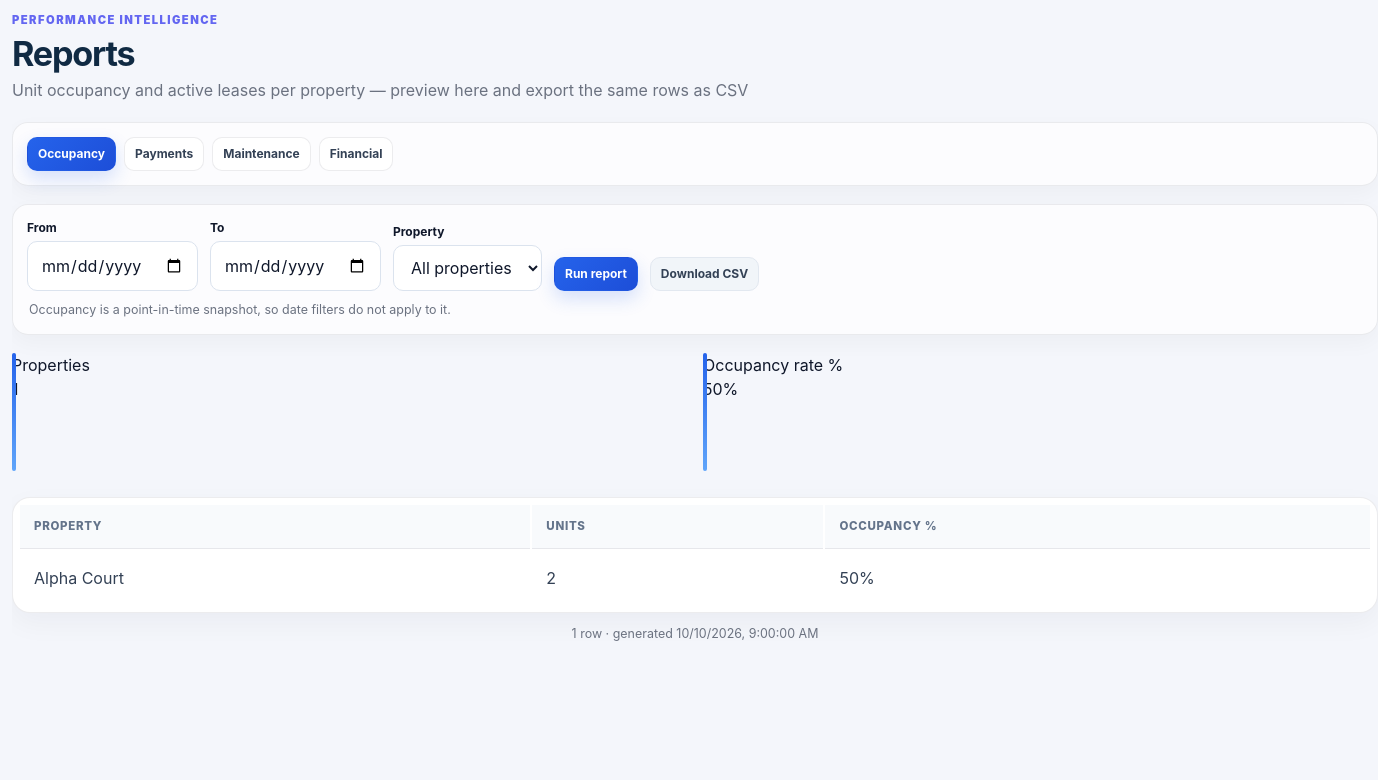
ManagerReports › switches report types via the tabs
Click the tab "Financial" at (356, 154), box [319,137,393,171]
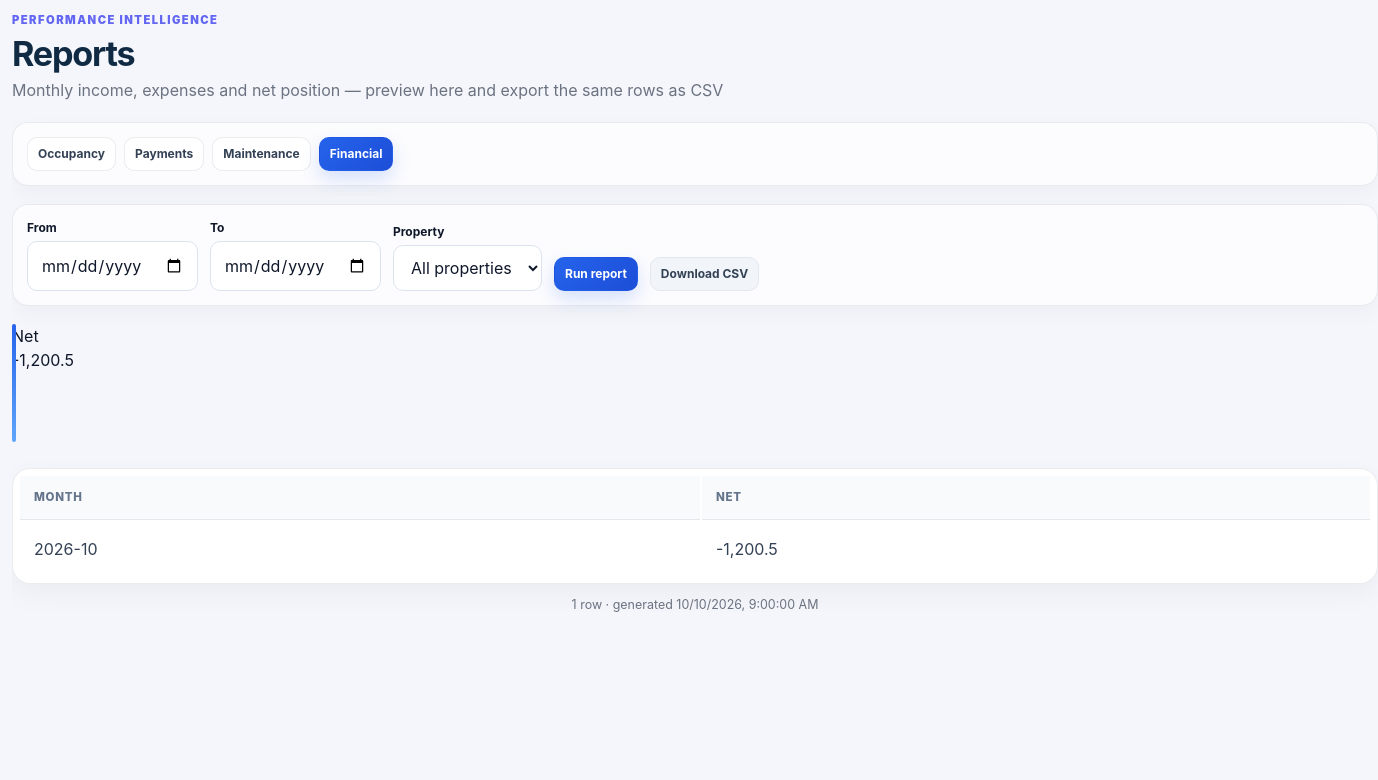
Expected: the text "2026-10" is shown, [20,522,700,576]
Expected: the text "-1,200.5" is shown, [12,350,74,370]
